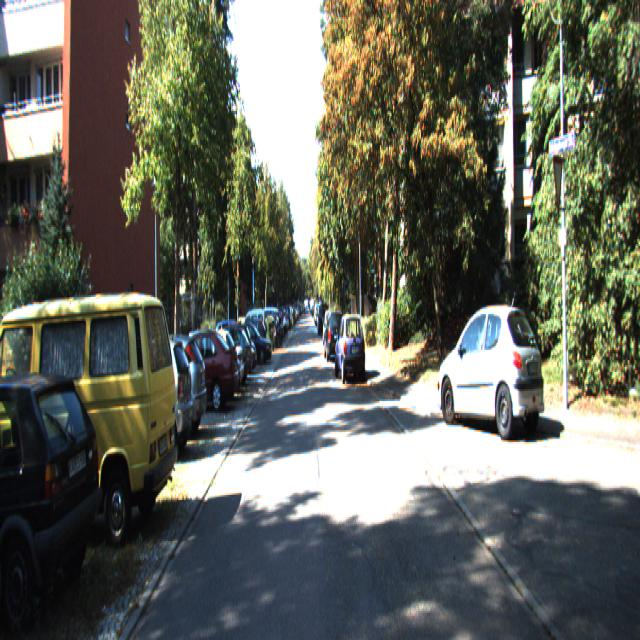Car: (0, 278, 180, 547), (0, 354, 103, 626), (438, 302, 546, 446), (93, 332, 194, 468), (117, 328, 209, 443), (164, 322, 239, 410), (334, 313, 366, 385), (323, 311, 346, 364)
